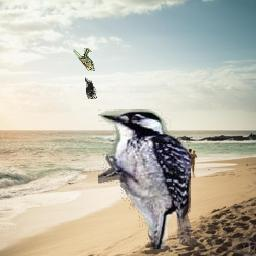Sparrow: (73, 49, 96, 72)
Woodpecker: (99, 109, 192, 249), (85, 77, 97, 99)
